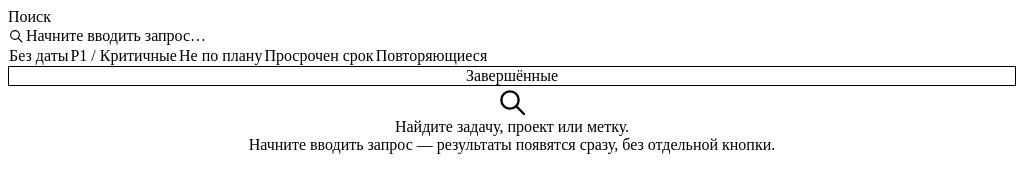
Search — Системные фильтры, M34 (01§16, E12.3) › фильтры скрыты, как только запрос непустой — печать текста переключает на обычный поиск
expect the button "Без даты" is shown: met, box [8,46,69,66]
Type "что угодно" into the field named "Поиск по задачам, проектам и меткам".
click(520, 36); type("что угодно")  # box [24,26,1016,46]
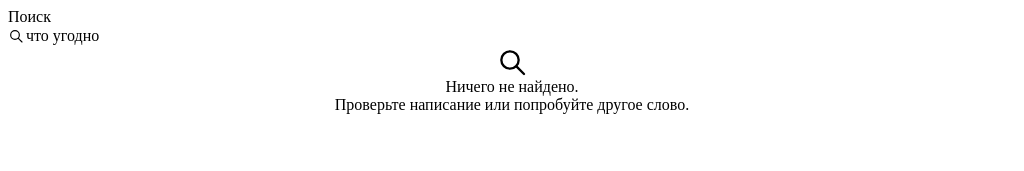
expect the button "Без даты" is gone: met
